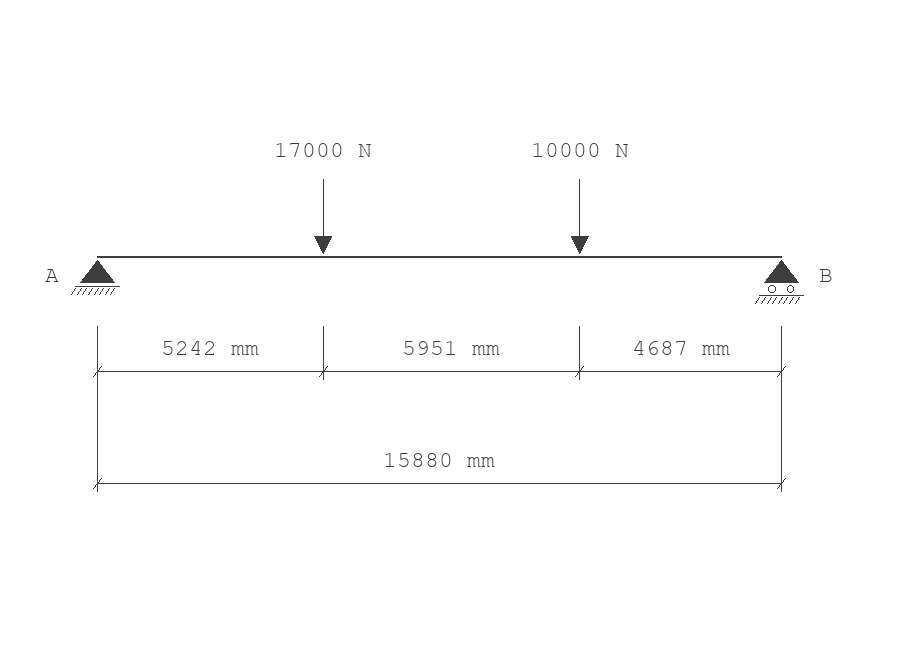pin_support: (71, 260, 120, 295)
point_load: (314, 179, 332, 254), (571, 179, 589, 254)
roller_support: (755, 260, 804, 304)
